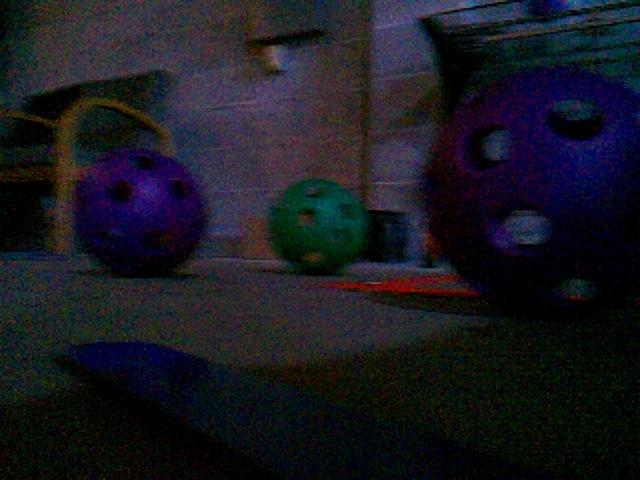Green: (268, 177, 370, 274), (527, 0, 567, 17)
Purple: (420, 63, 640, 314), (72, 147, 208, 274)
